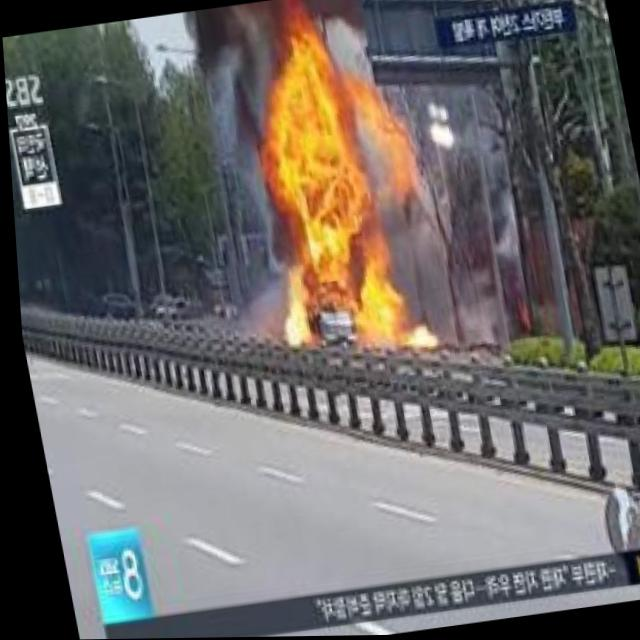Fire: (250, 64, 369, 314), (357, 310, 412, 348)
